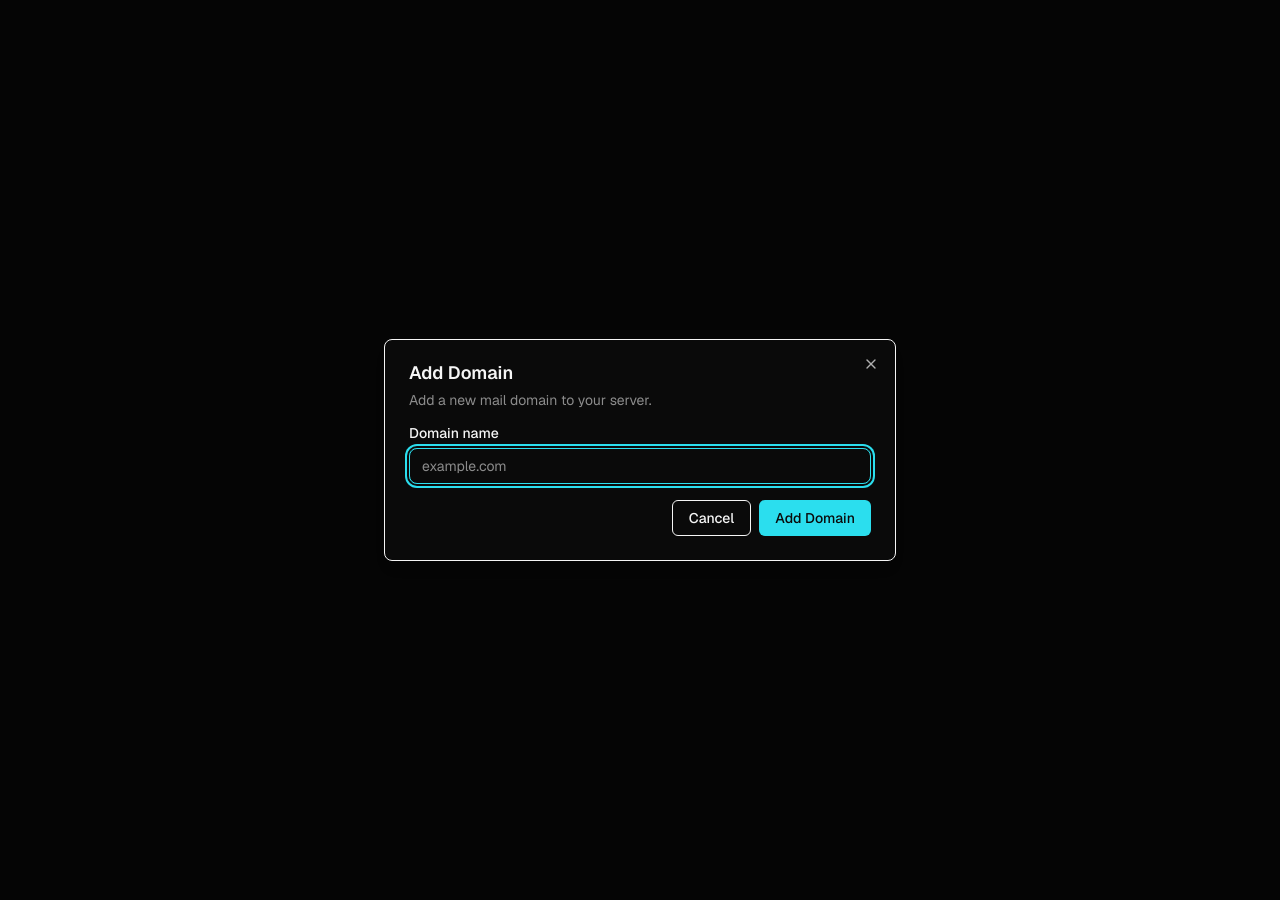
Test: AddDomainDialog › validates invalid domain name
In the field with test id "domain-name-input": (640, 466) [409,448,871,484], type "invalid"
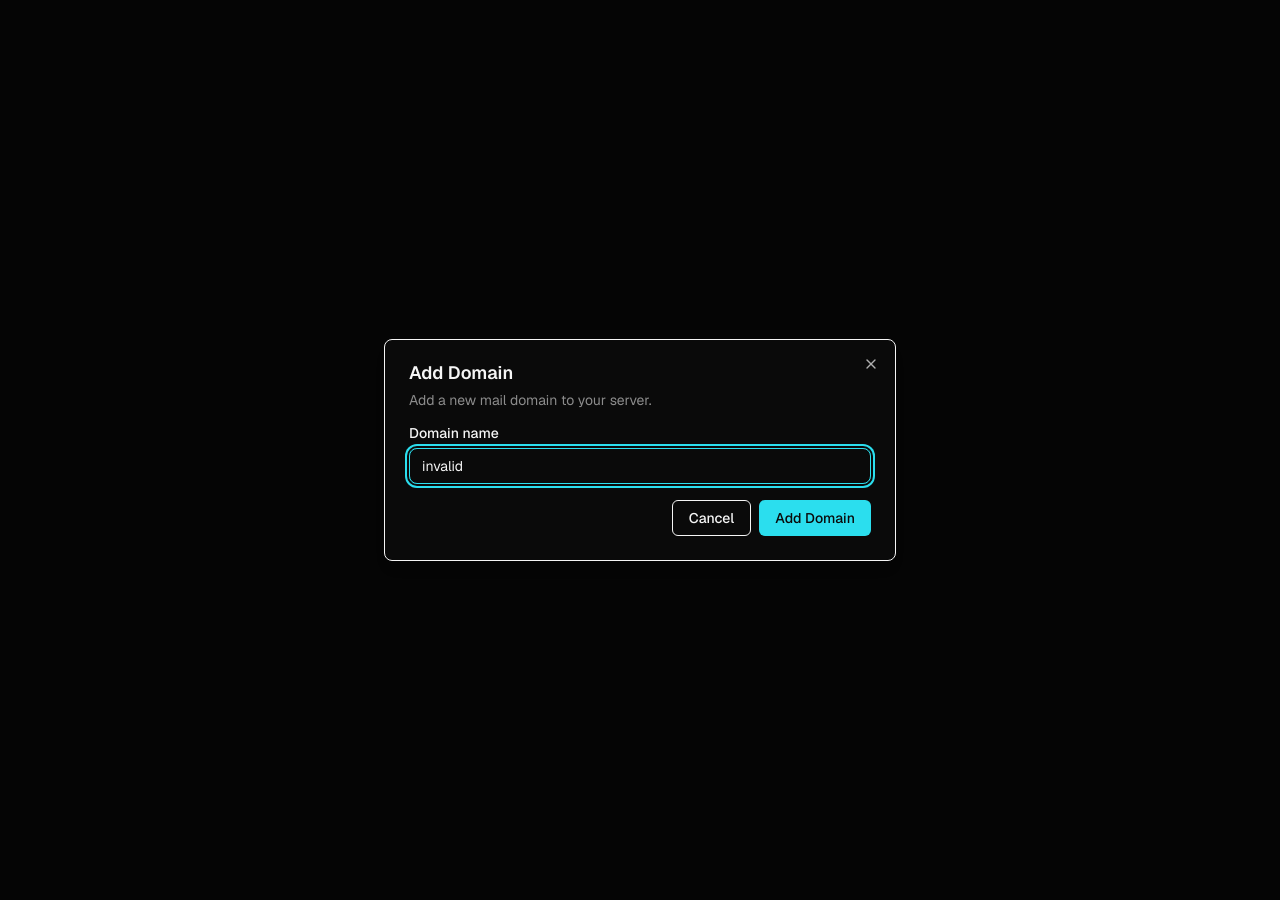
Click the button with test id "add-domain-submit": (815, 518) [759,500,871,536]
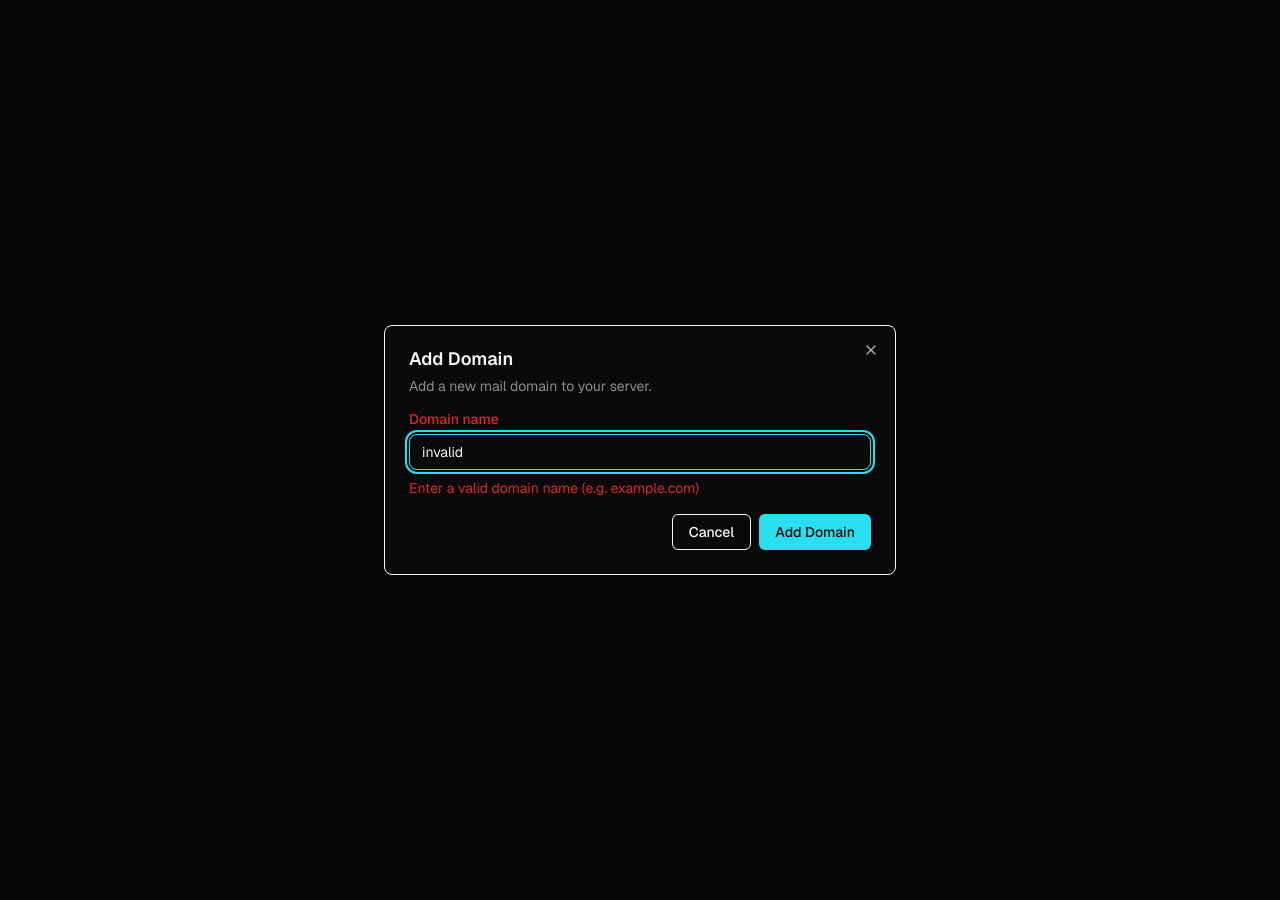
Check: the text "Enter a valid domain name (e.g. example.com)" is shown, box [409,479,699,497]
